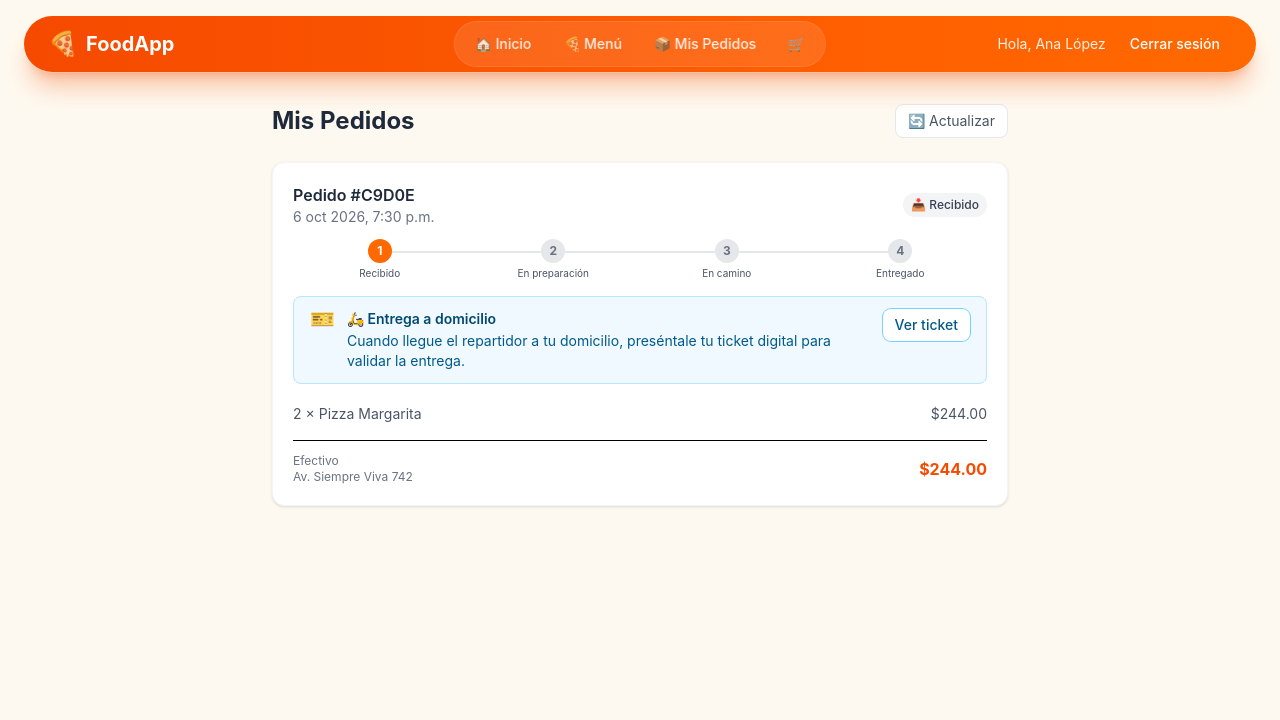
Test: MisPedidosPage - HU07 avisos de estado › muestra un aviso cuando el estado del pedido cambia
expect the heading "Pedido #C9D0E" is shown: met, box [293, 183, 434, 207]
What coordinates should you click on to do the following:
click the button "🔄 Actualizar"
I would click on:
 (952, 121)
Its box is [895, 104, 1008, 138].
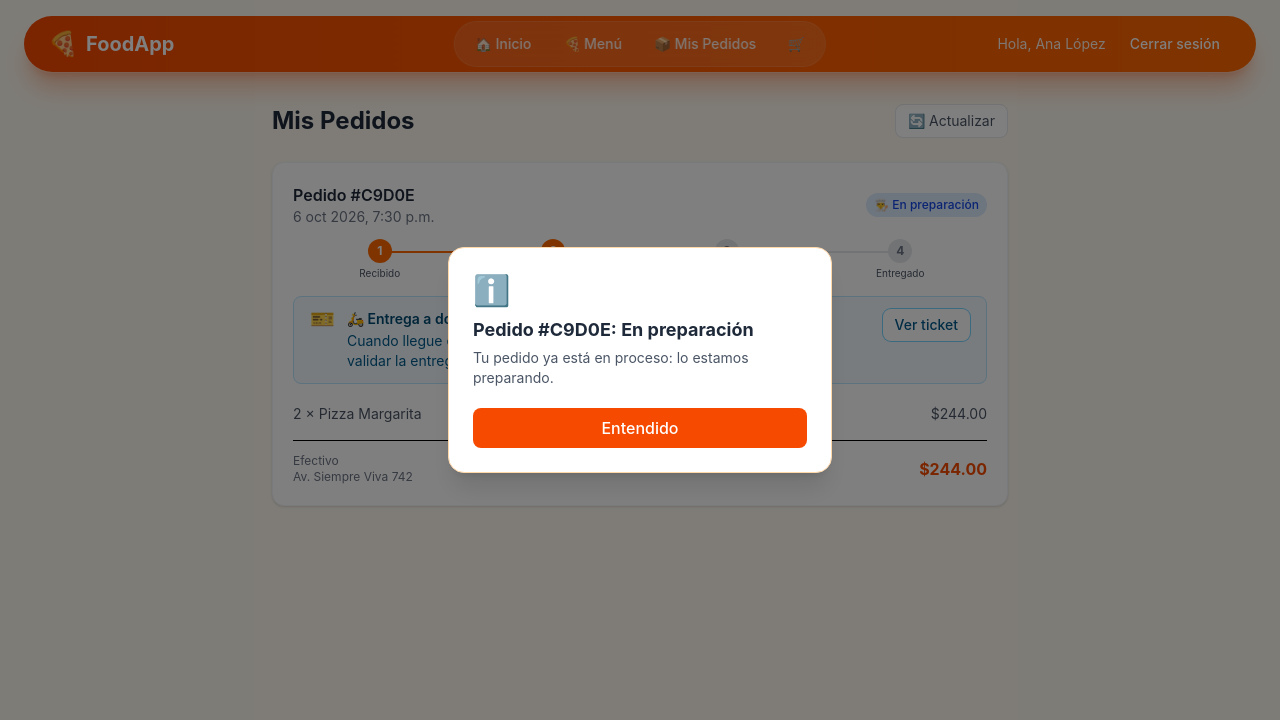
expect the text "Tu pedido ya está en proceso: lo estamos preparando." is shown: met, box [473, 349, 748, 386]
expect the dialog is shown: met, box [448, 247, 832, 473]
